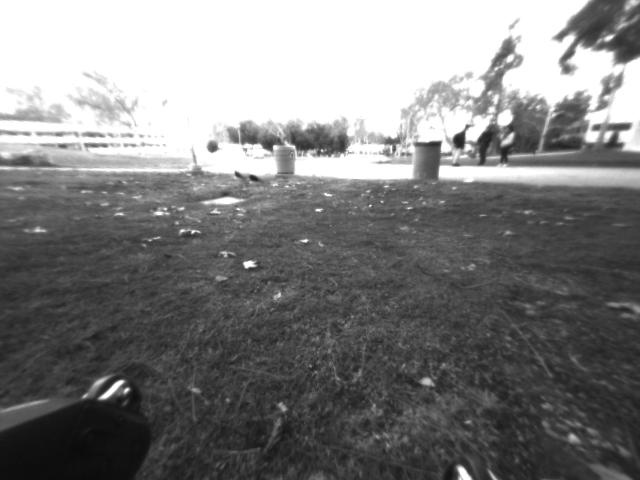trashcan: (407, 137, 443, 192), (271, 143, 301, 182)
